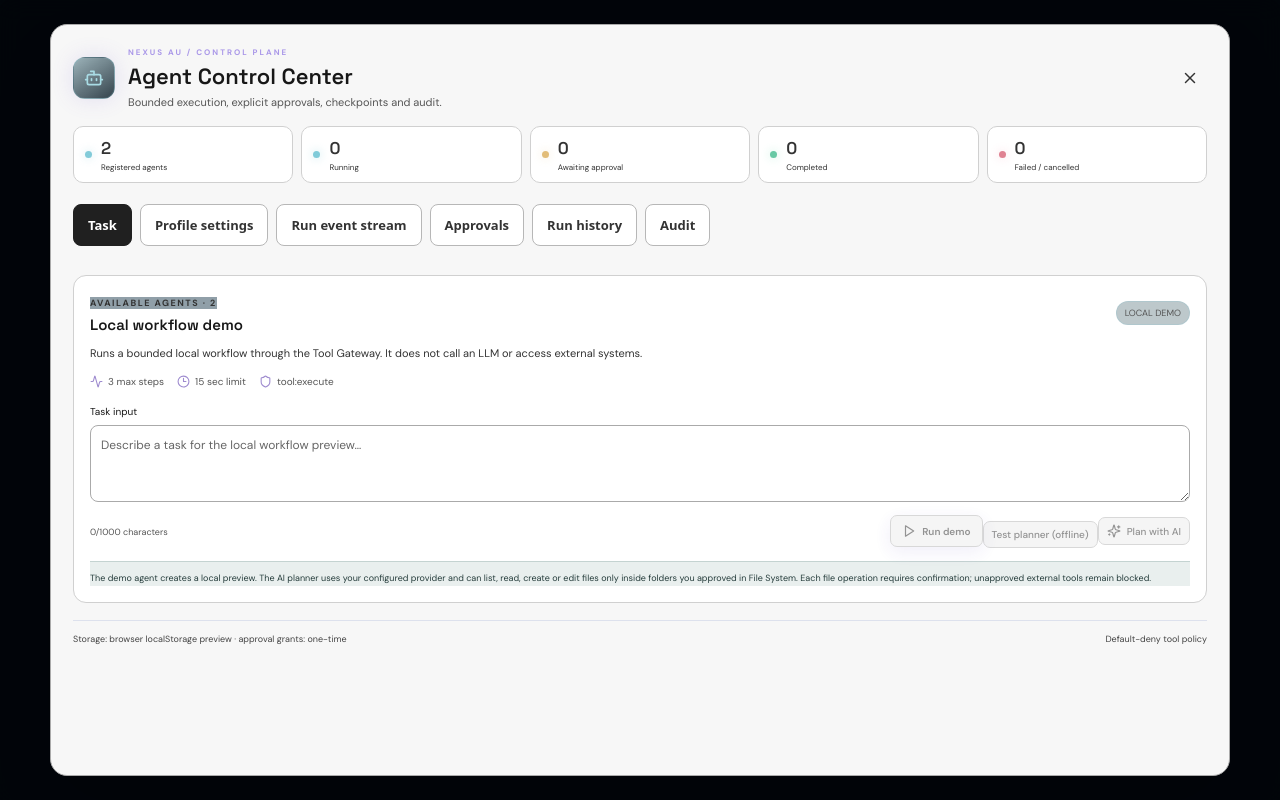
Test: agent center session checkpoints › offers a user-driven continuation for an interrupted local preview without tool receipts
Later steps or results of the test are not shown.
Step 1. Click the button "Run history" → {"x": 585, "y": 225}, box 532,204 -> 637,246
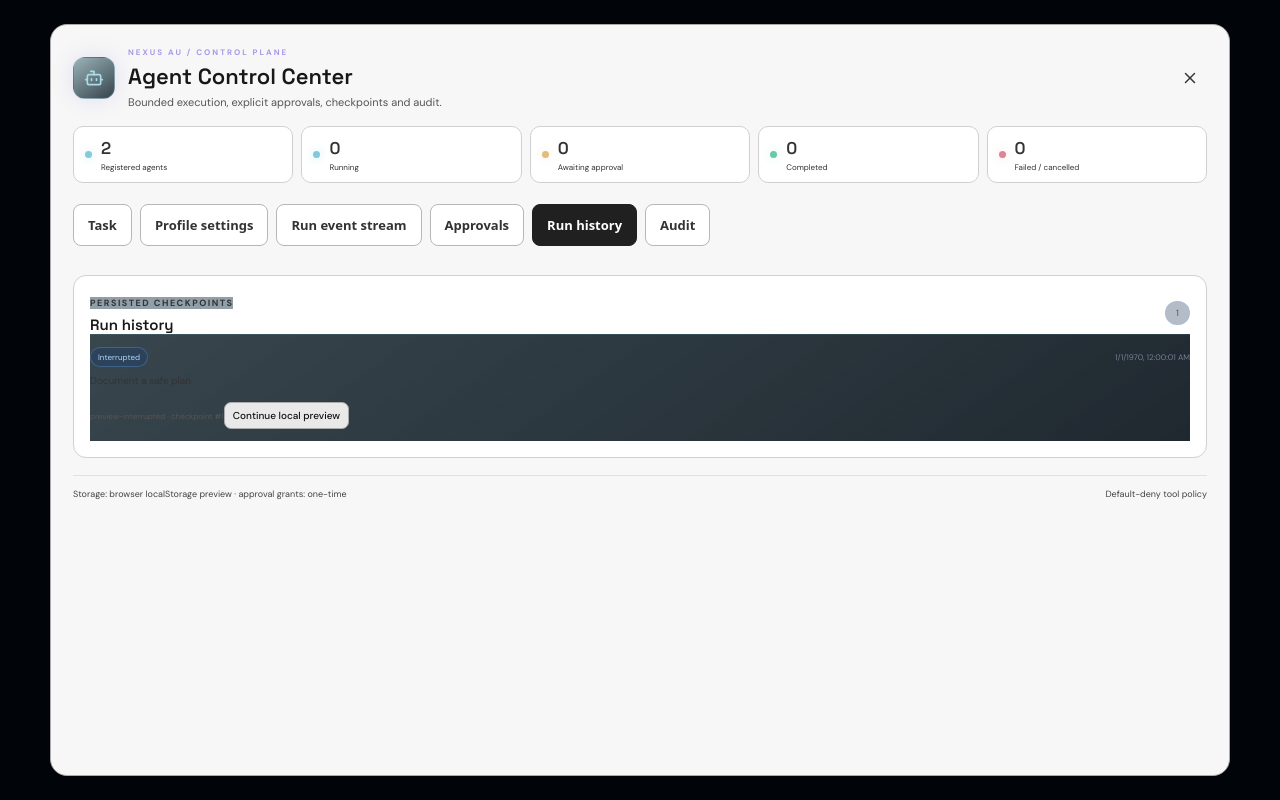
Expected: the text "Interrupted" is shown, 90,347 -> 148,367
Expected: the button "Continue local preview" is enabled, 224,402 -> 349,429
